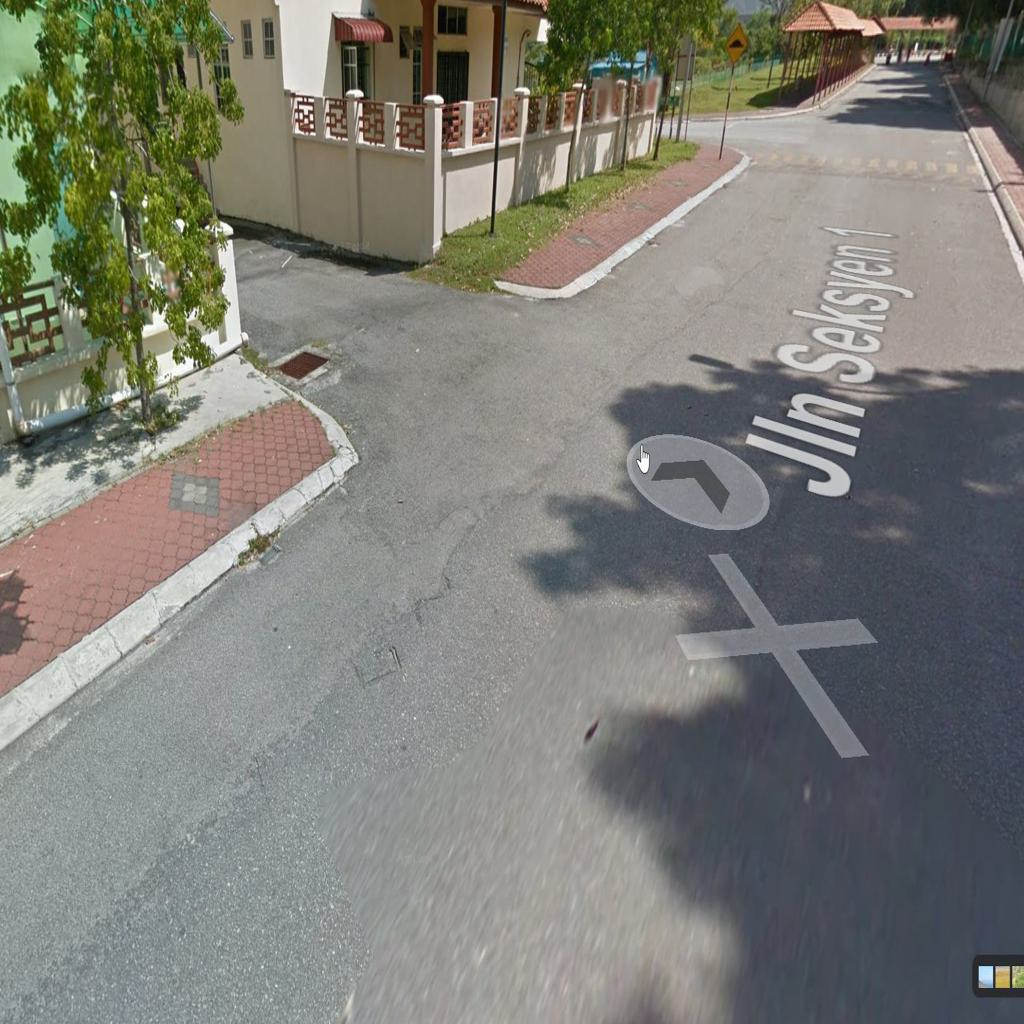Junction: (238, 230, 585, 474), (672, 97, 828, 159)
